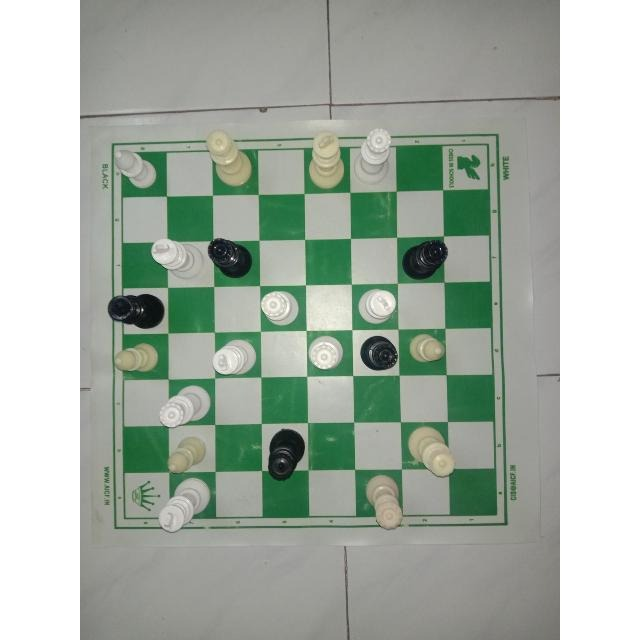black-king: (257, 425, 311, 481)
black-queen: (104, 289, 168, 328), (403, 234, 451, 282), (356, 331, 400, 374), (206, 235, 252, 276)
white-bishop: (112, 145, 162, 193), (164, 433, 210, 480), (112, 340, 164, 380), (408, 332, 452, 366)
white-king: (155, 476, 213, 534), (144, 234, 208, 282), (303, 129, 347, 191), (353, 283, 399, 329), (209, 335, 258, 378)
white-queen: (202, 124, 254, 190), (404, 425, 456, 481), (351, 121, 396, 185), (152, 380, 212, 427), (360, 472, 404, 534), (303, 330, 345, 376), (259, 284, 301, 329)
